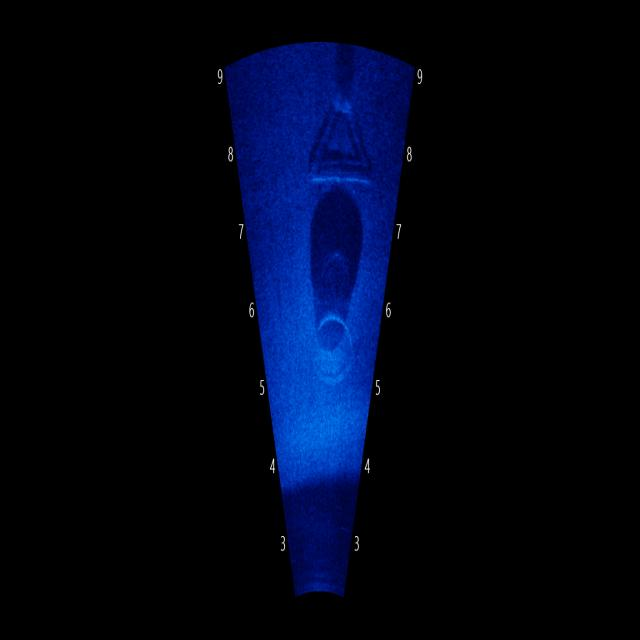circle: (307, 272, 370, 421)
triangle: (295, 70, 379, 185)
